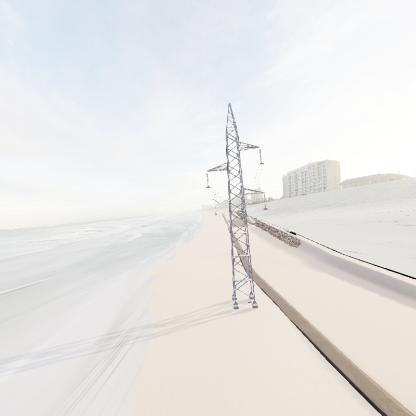tower: (202, 104, 272, 314)
